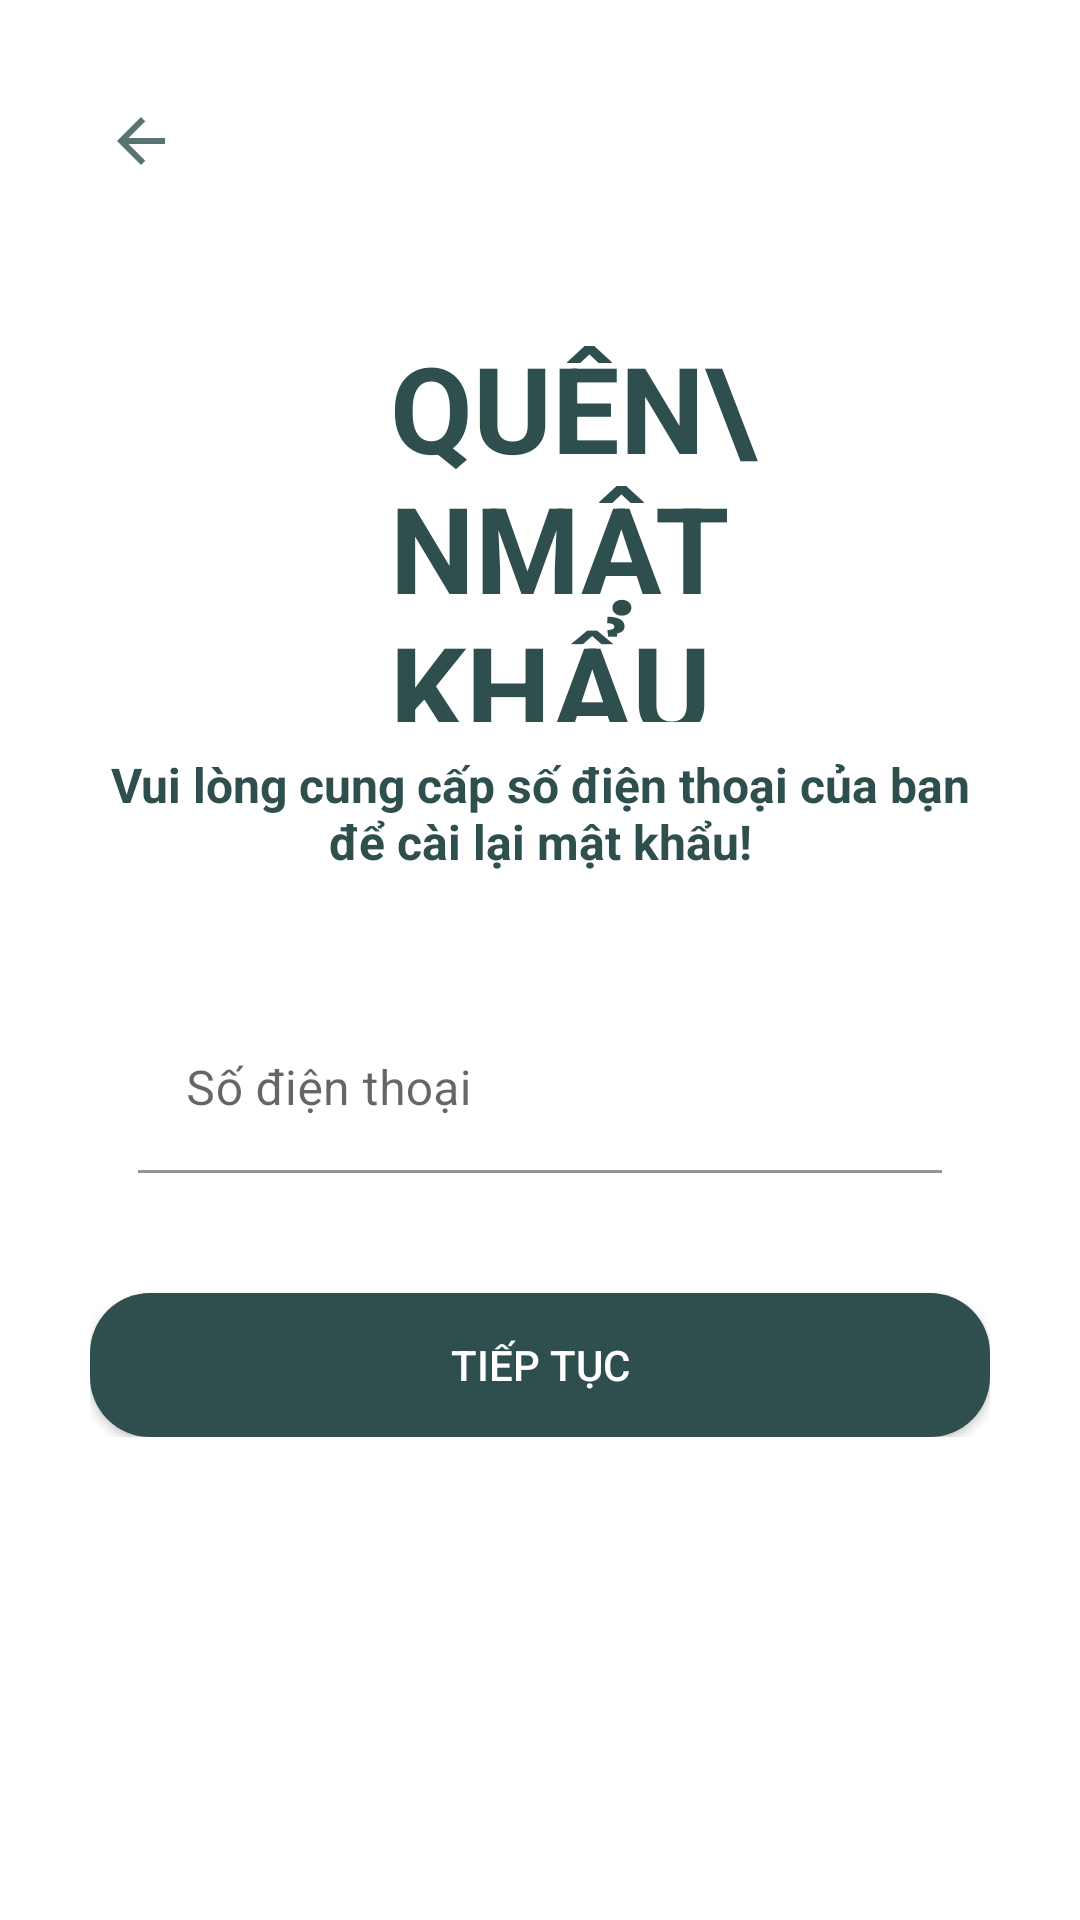

Icon bounding boxes for this 1080 × 1920 phone screenshot, format (x1, y1, x2, y2):
back: (117, 117, 165, 165)
